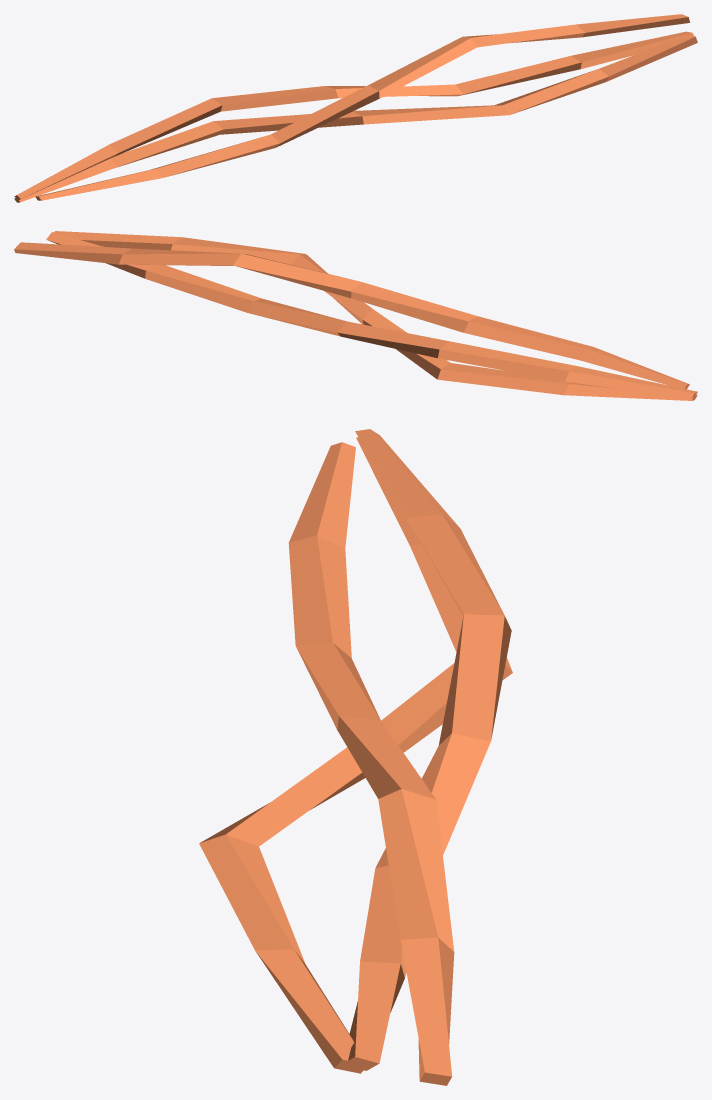
File: Roots.fbx
3 renders of one model, top to bottom at view 1: azimuth 30°, elevation 25°; view 2: azimuth 150°, elevation 25°; view 3: azimuth 270°, elevation 25°, orthographic. The views are drawn at different scales.
Visible parts, largest first — view 1: Roots; view 2: Roots; view 3: Roots.
Part boxes in pixels (left/top/right/bottom): Roots: left=14, top=14, right=697, bottom=202; Roots: left=14, top=231, right=697, bottom=400; Roots: left=199, top=429, right=512, bottom=1085.
Size of the model in its own units: 494 by 38.06 by 102.
